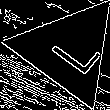L_NW: (36, 23, 99, 78)
